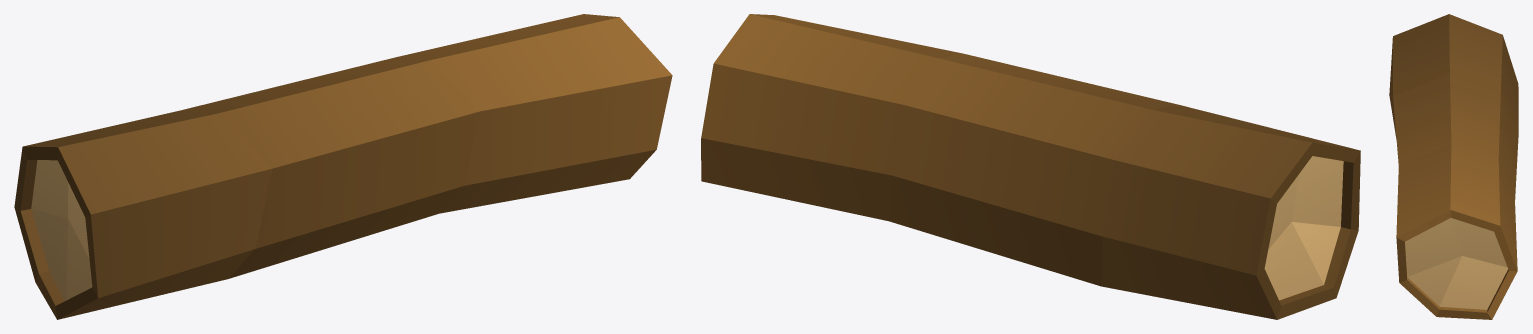
The model's file is TreeStump2.fbx.
3 renders of one model, left to right at view 1: azimuth 30°, elevation 25°; view 2: azimuth 150°, elevation 25°; view 3: azimuth 270°, elevation 25°, orthographic. The views are drawn at different scales.
Visible parts, largest first — view 1: Log_big_regular; view 2: Log_big_regular; view 3: Log_big_regular.
Part boxes in pixels (x1,y1,x2,y2): Log_big_regular: (14, 14, 672, 319); Log_big_regular: (701, 14, 1360, 319); Log_big_regular: (1389, 14, 1518, 319).
Bounding box in the file's own units: 831 × 219 × 226.
Materials: 1 (1 with a texture image).
